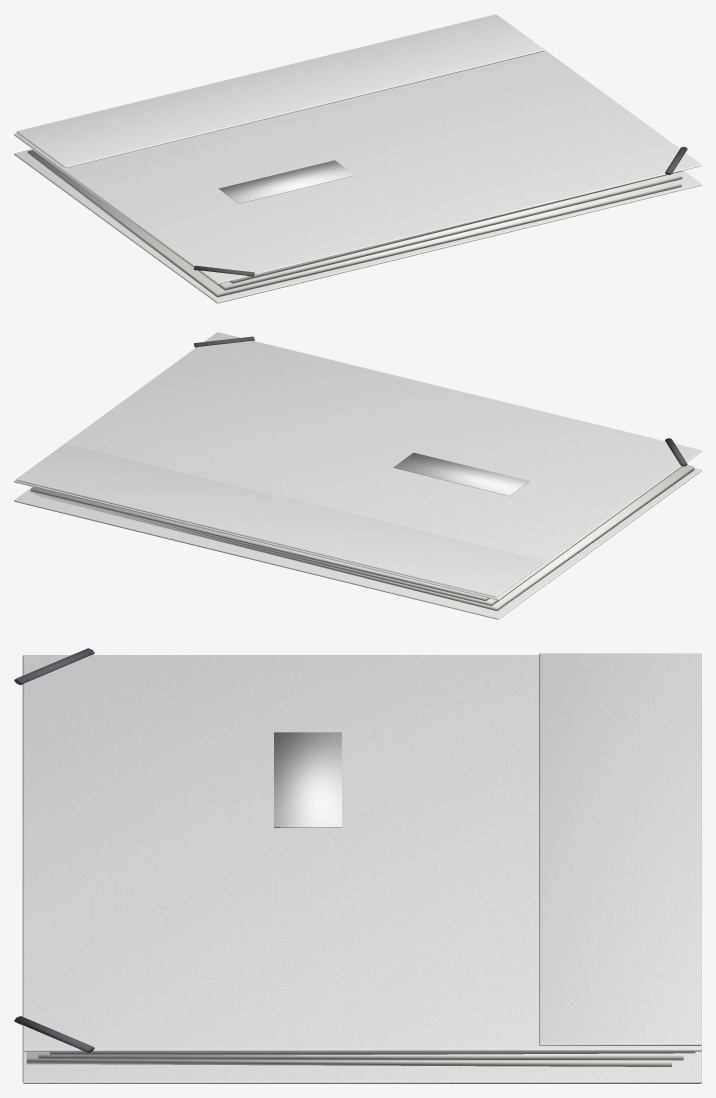
The model's file is folder.glb.
The picture shows the model from 3 angles, top to bottom: view 1: azimuth 30°, elevation 25°; view 2: azimuth 150°, elevation 25°; view 3: azimuth 270°, elevation 25°; orthographic projection. The views are drawn at different scales.
Parts seen in each view (by area): view 1: folder_front, folder_flap, folder_paper0, folder_back, folder_paper1, folder_label, folder_paper2; view 2: folder_front, folder_flap, folder_back, folder_paper0, folder_paper2, folder_label, folder_paper1; view 3: folder_front, folder_flap, folder_back, folder_label, folder_paper1, folder_paper0, folder_paper2, folder_band1, folder_band-1.
Part boxes in pixels (left/top/right/bottom): folder_front: left=14, top=16, right=701, bottom=284; folder_flap: left=16, top=14, right=544, bottom=167; folder_paper0: left=27, top=150, right=681, bottom=297; folder_back: left=14, top=149, right=701, bottom=303; folder_paper1: left=31, top=148, right=682, bottom=290; folder_label: left=219, top=160, right=355, bottom=203; folder_paper2: left=230, top=171, right=682, bottom=283; folder_front: left=14, top=332, right=701, bottom=600; folder_flap: left=16, top=444, right=544, bottom=597; folder_back: left=14, top=468, right=701, bottom=619; folder_paper0: left=38, top=465, right=694, bottom=610; folder_paper2: left=30, top=487, right=489, bottom=600; folder_label: left=393, top=452, right=529, bottom=496; folder_paper1: left=34, top=466, right=682, bottom=606; folder_front: left=22, top=655, right=701, bottom=1051; folder_flap: left=539, top=653, right=701, bottom=1045; folder_back: left=22, top=1050, right=701, bottom=1083; folder_label: left=274, top=732, right=341, bottom=827; folder_paper1: left=38, top=1051, right=683, bottom=1060; folder_paper0: left=26, top=1051, right=671, bottom=1066; folder_paper2: left=49, top=1051, right=695, bottom=1056; folder_band1: left=14, top=1016, right=94, bottom=1052; folder_band-1: left=14, top=648, right=94, bottom=685.
Bounding box in the file's own units: 33.61 × 1.52 × 24.31.
Materials: 4 (3 with a texture image).
